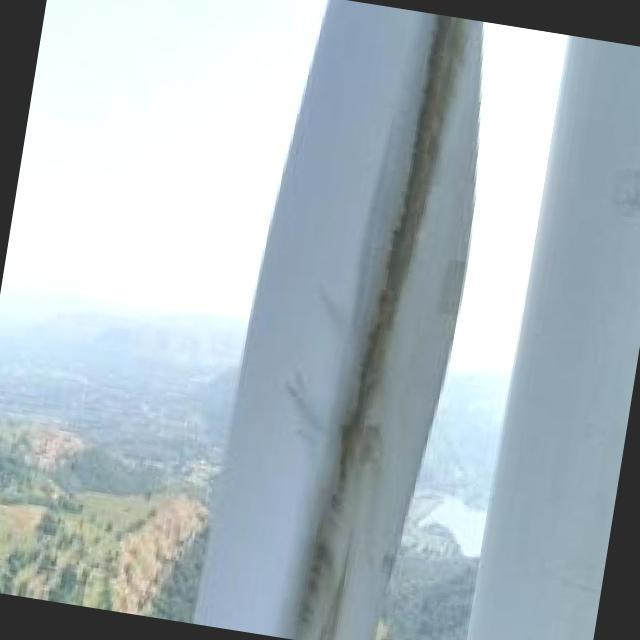Dirt: (281, 2, 469, 640)
